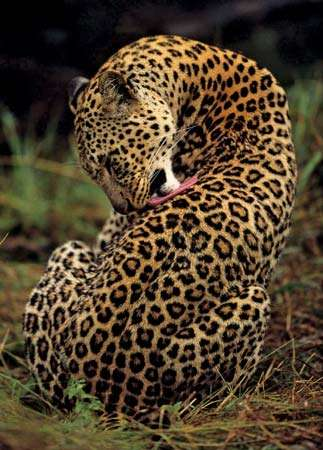leopard: (21, 30, 296, 412)
